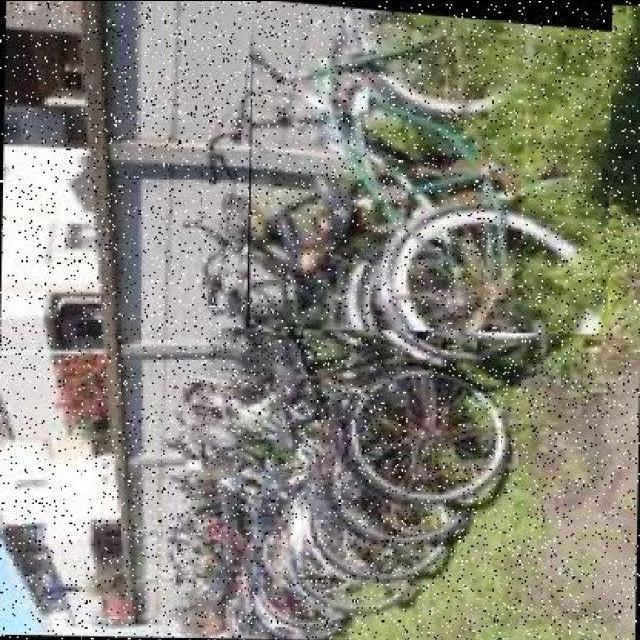bicycle: (246, 2, 617, 336)
